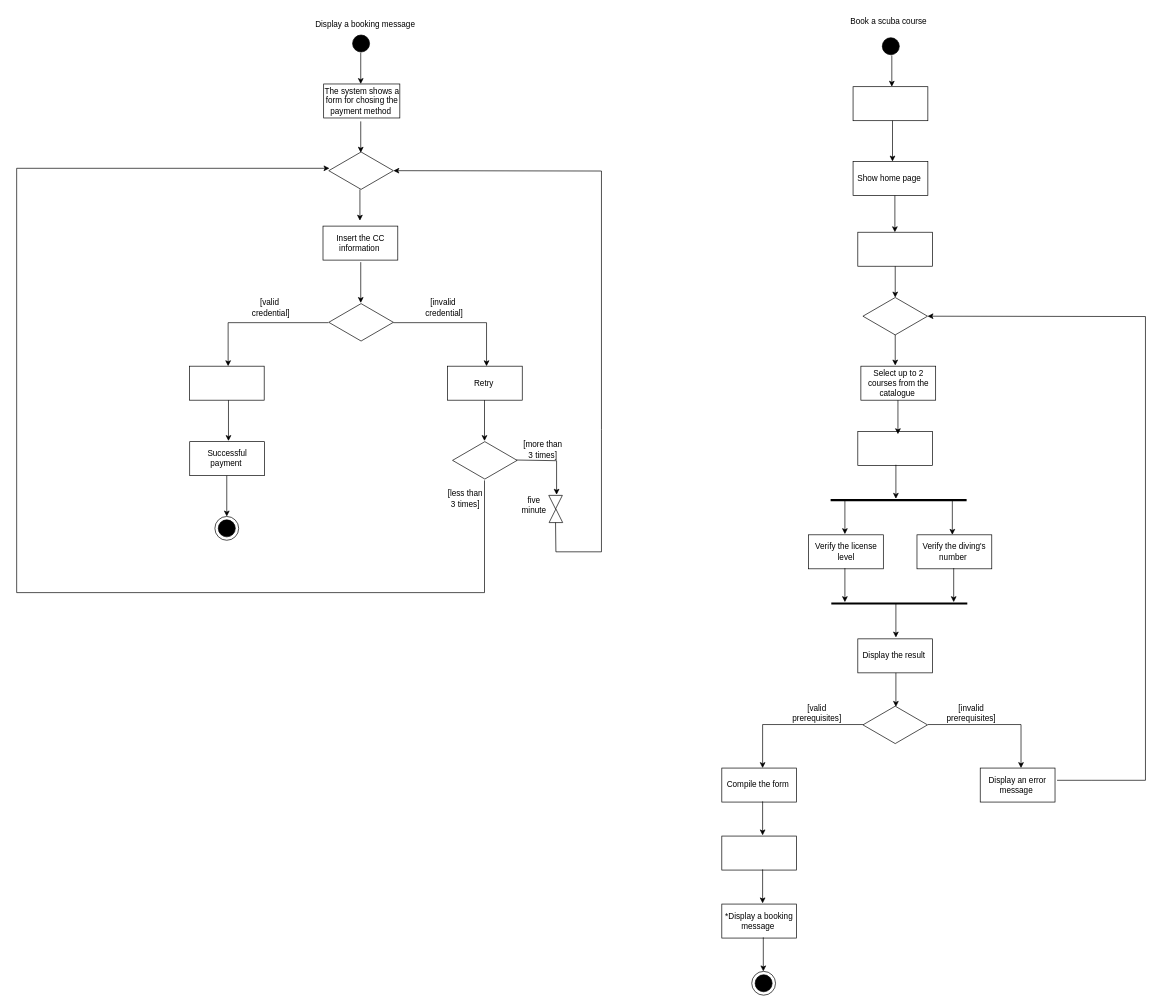
Some shapes in this 1163 by 1007 pixel diagram are drawn without their labels. Each missing label, with the centre of its shape:
"Accepted payment method" belongs at pixel 226 383.
"Ask the system to show the catalogue of the courses" belongs at pixel 895 249.
"Login" belongs at pixel 890 103.
"Send the request to the chosen diving" belongs at pixel 759 852.
"The system verifies the prerequisites" belongs at pixel 895 448.
